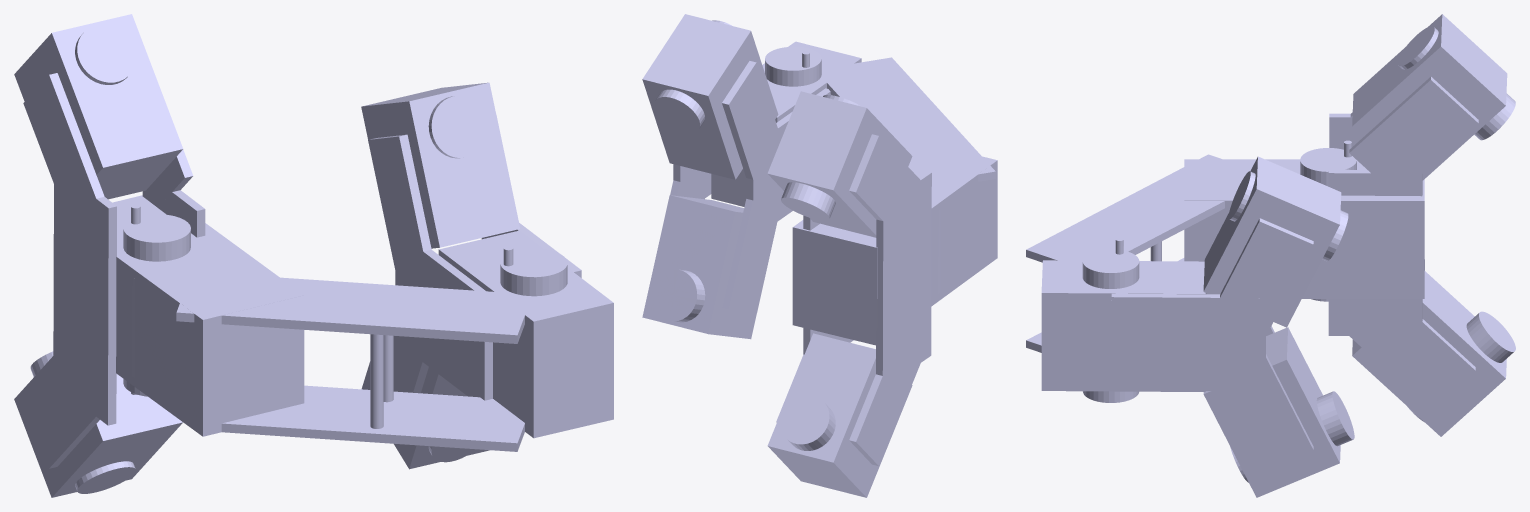
The model's file is dbAlpha_URDF_dbAlpha__67__.dae.
3 views of the same model, side by side, from view 1: azimuth 30°, elevation 25°; view 2: azimuth 150°, elevation 25°; view 3: azimuth 270°, elevation 25° (orthographic). The views are drawn at different scales.
Parts seen in each view (by area): view 1: Node_0x7f7afcf54f00 (×24); view 2: Node_0x7f7afcf54f00 (×21); view 3: Node_0x7f7afcf54f00 (×22).
Part boxes in pixels (<box>): Node_0x7f7afcf54f00 (×24): <box>14,14,613,497</box>; Node_0x7f7afcf54f00 (×21): <box>642,14,997,497</box>; Node_0x7f7afcf54f00 (×22): <box>1026,14,1515,497</box>.
Size of the model in its own units: 0.1259 by 0.16 by 0.1811.
